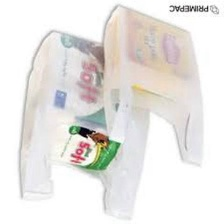plastic_bag: (17, 27, 151, 221), (87, 5, 215, 171)
